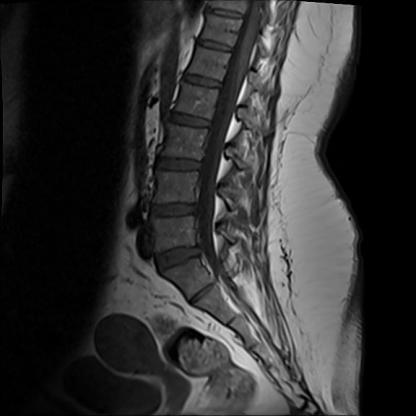Degenerative Disc Diseaserotation: (149, 197, 201, 224), (152, 246, 205, 268)
Disc Relaxationrotation: (151, 244, 207, 270)
